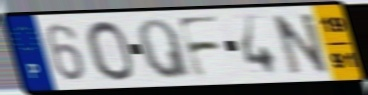4: (242, 13, 281, 78)
6: (44, 21, 88, 83)
F: (174, 14, 225, 81)
N: (269, 10, 332, 77)
O: (84, 18, 137, 82)
Q: (136, 17, 195, 82)
